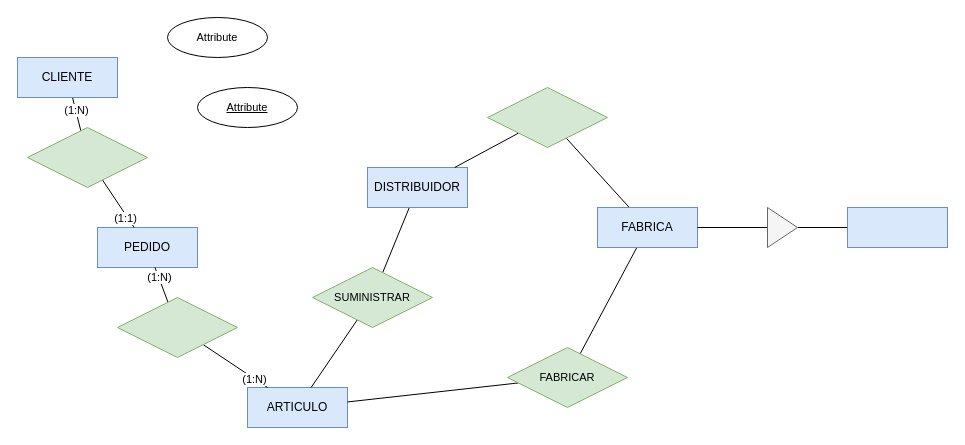
The diagram is 965 pixels wide and 445 high, and some of its shapes have lost their labels. The shapes that lost their labels are listed below. From the top down, each one's centre as x and y in pixels, then its label:
At (x=547, y=117): "PROVEER".
At (x=87, y=157): "REALIZAR 1:N".
At (x=897, y=227): "FABRICA ALTERNATIVA".
At (x=177, y=327): "CONTENER N:N".
